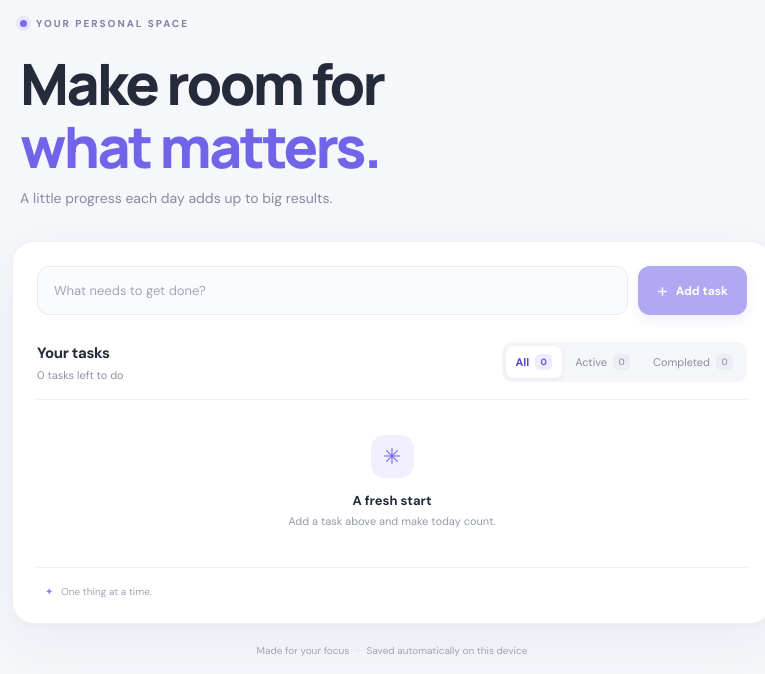
Test case: Todo app › adds a task and trims whitespace
In the field labelled "What needs to get done?": (333, 291) [37,266,628,315], type "  Finish homework  "
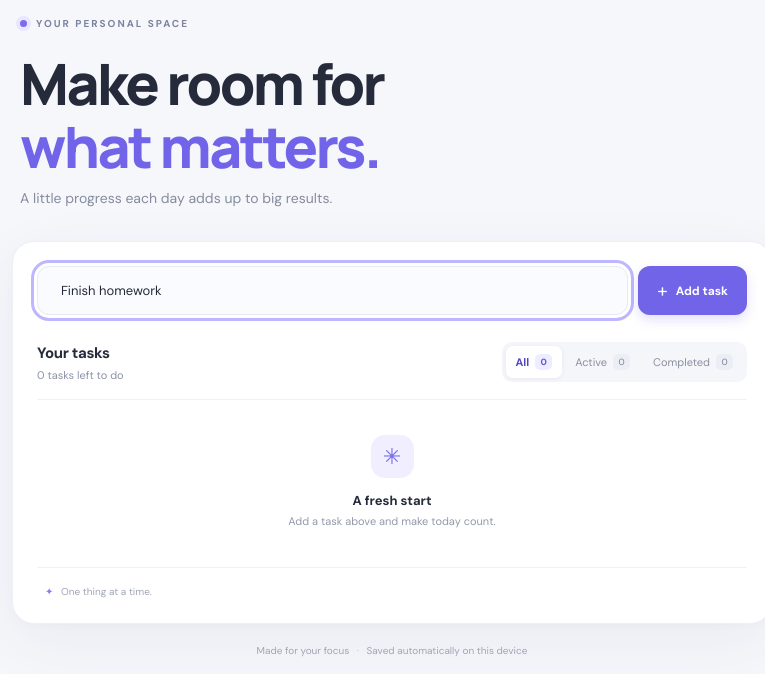
Click the button "+ Add task": (693, 291) [638,266,747,315]
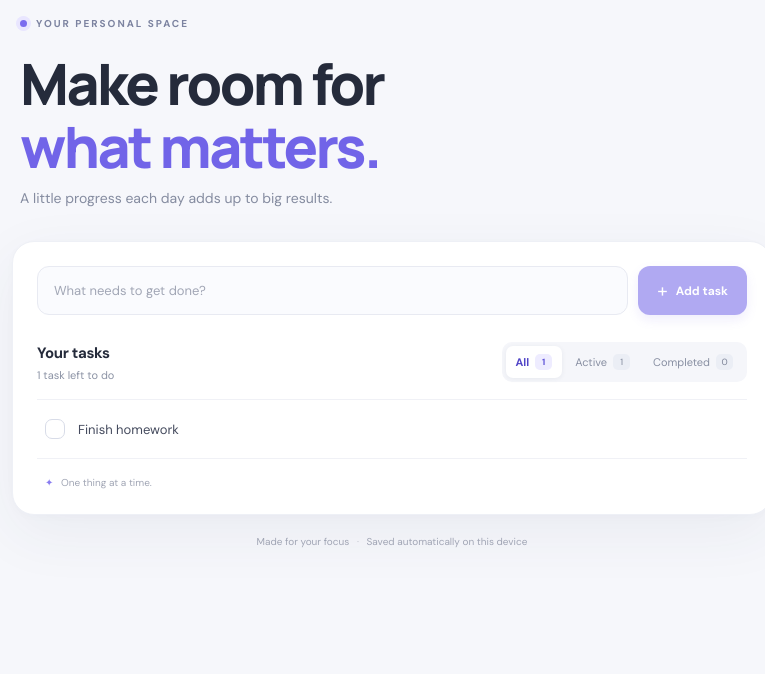
Expected: the text "Finish homework" is shown, [78,421,179,438]
Expected: the text "1 task left to do" is shown, [37,368,114,382]
